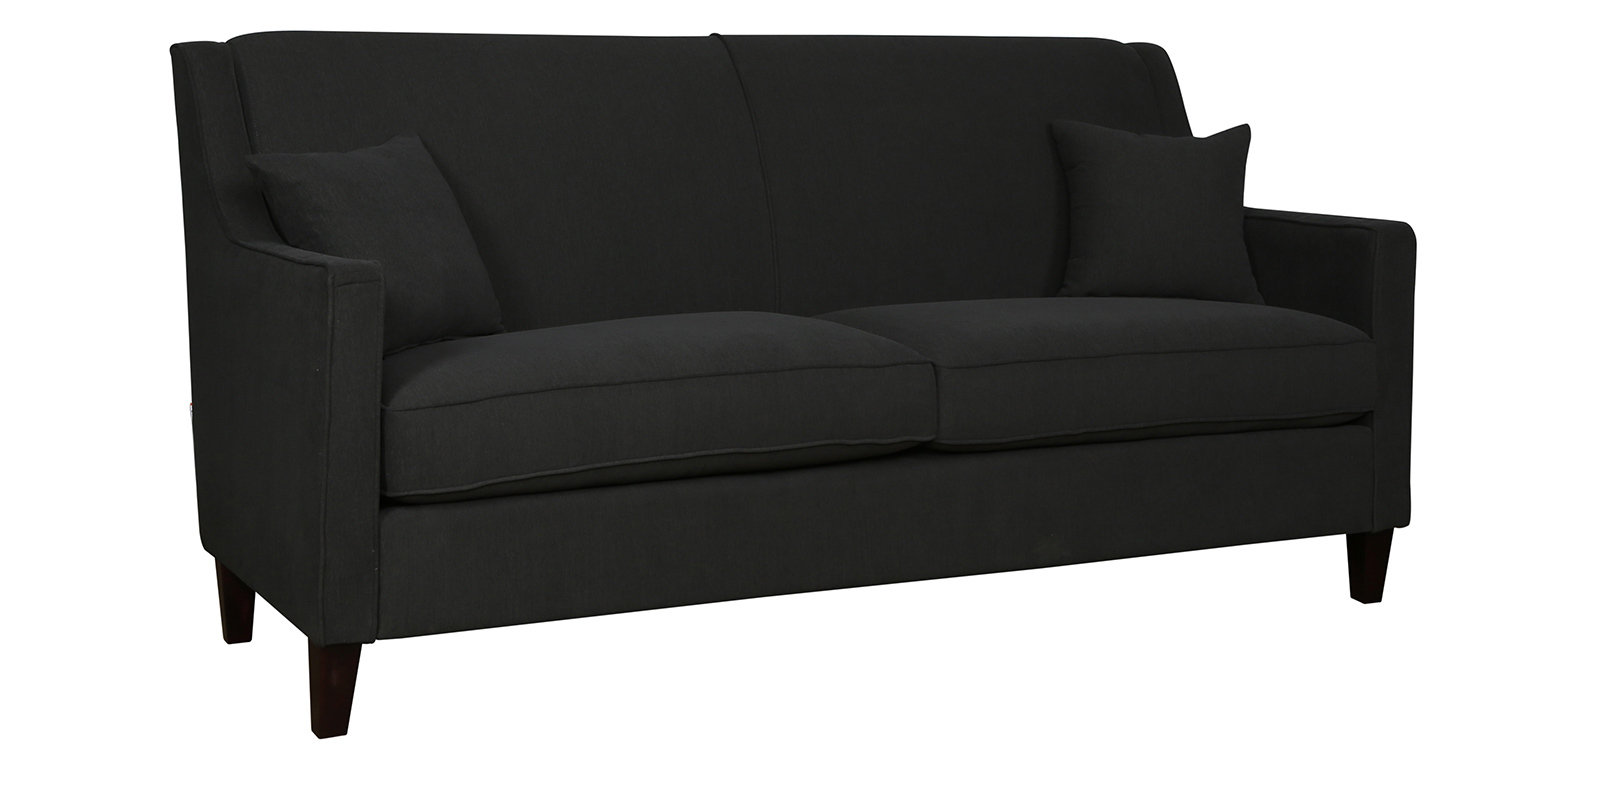Oscar Three Seater Sofa in Charcoal Grey Colour by CasaCraft: (169, 31, 1415, 741)
